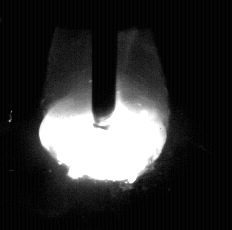arame: (92, 0, 117, 130)
poca: (38, 0, 169, 230)
